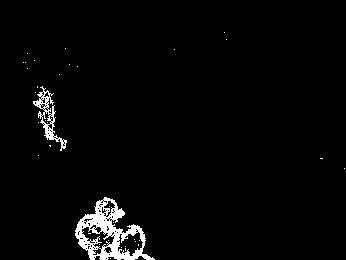person: (30, 84, 69, 156)
